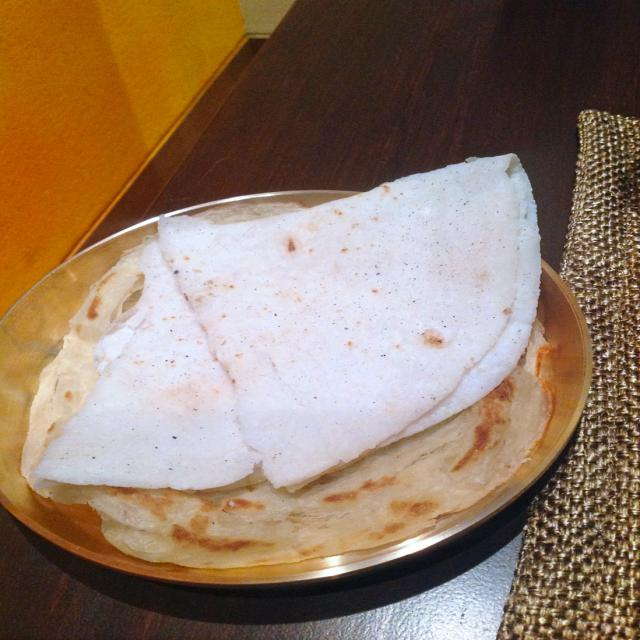ROTI: (156, 156, 537, 489)
